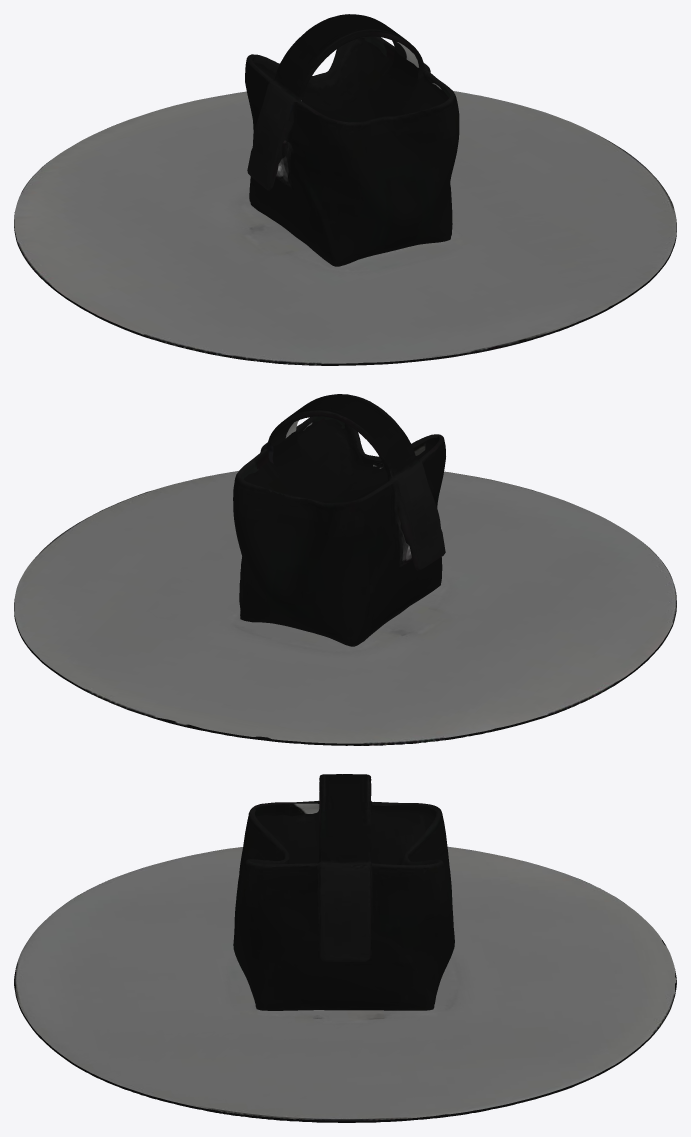
File: acessorios-unlit.glb
3 views of the same model, one above another, from view 1: azimuth 30°, elevation 25°; view 2: azimuth 150°, elevation 25°; view 3: azimuth 270°, elevation 25° (orthographic).
Visible parts, largest first — view 1: textured_mesh; view 2: textured_mesh; view 3: textured_mesh.
Part boxes in pixels (left/top/right/bottom): textured_mesh: left=14, top=14, right=676, bottom=365; textured_mesh: left=14, top=394, right=676, bottom=745; textured_mesh: left=14, top=774, right=676, bottom=1122.
Size of the model in its own units: 1.99 by 0.6784 by 1.99.
Materials: 1 (1 with a texture image).
